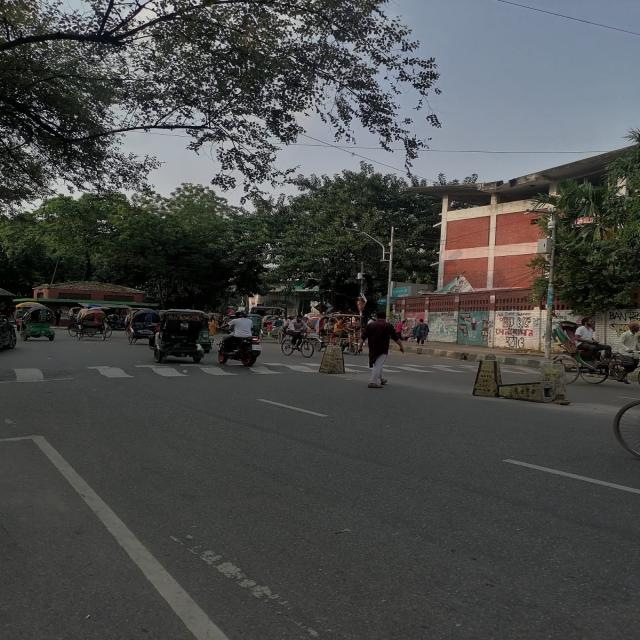person: (358, 312, 404, 388)
